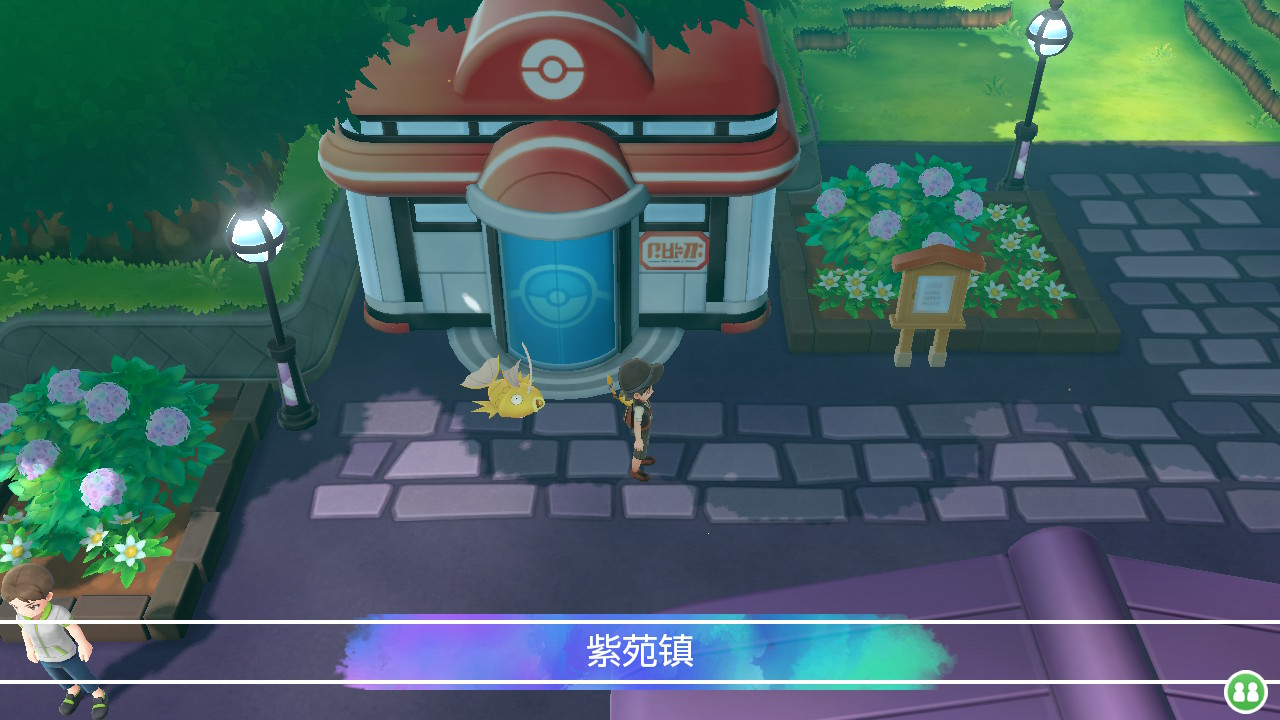Golden: (458, 352, 546, 416)
